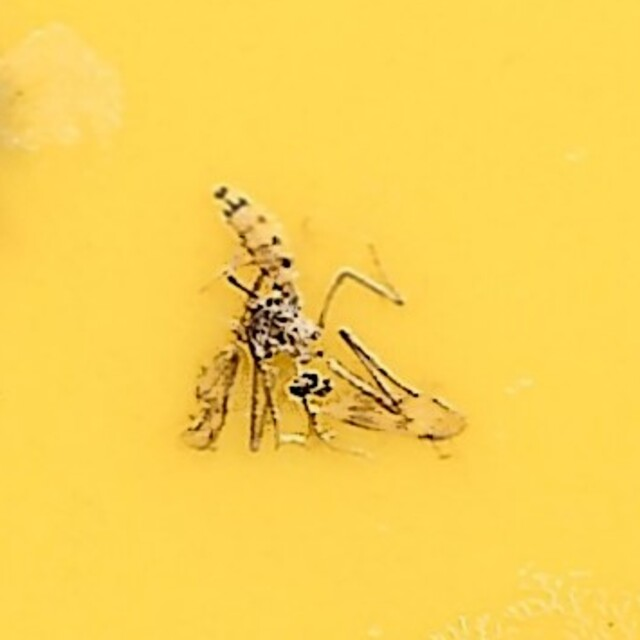Nematocera: (180, 177, 460, 463)
